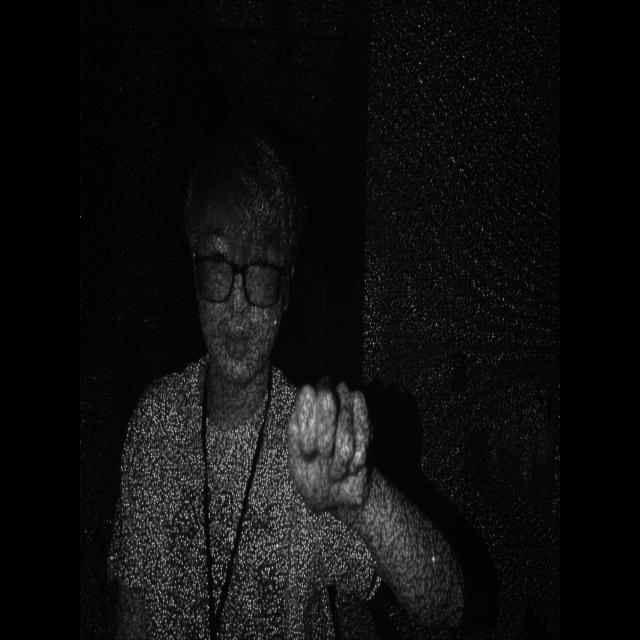N: (278, 371, 382, 528)
